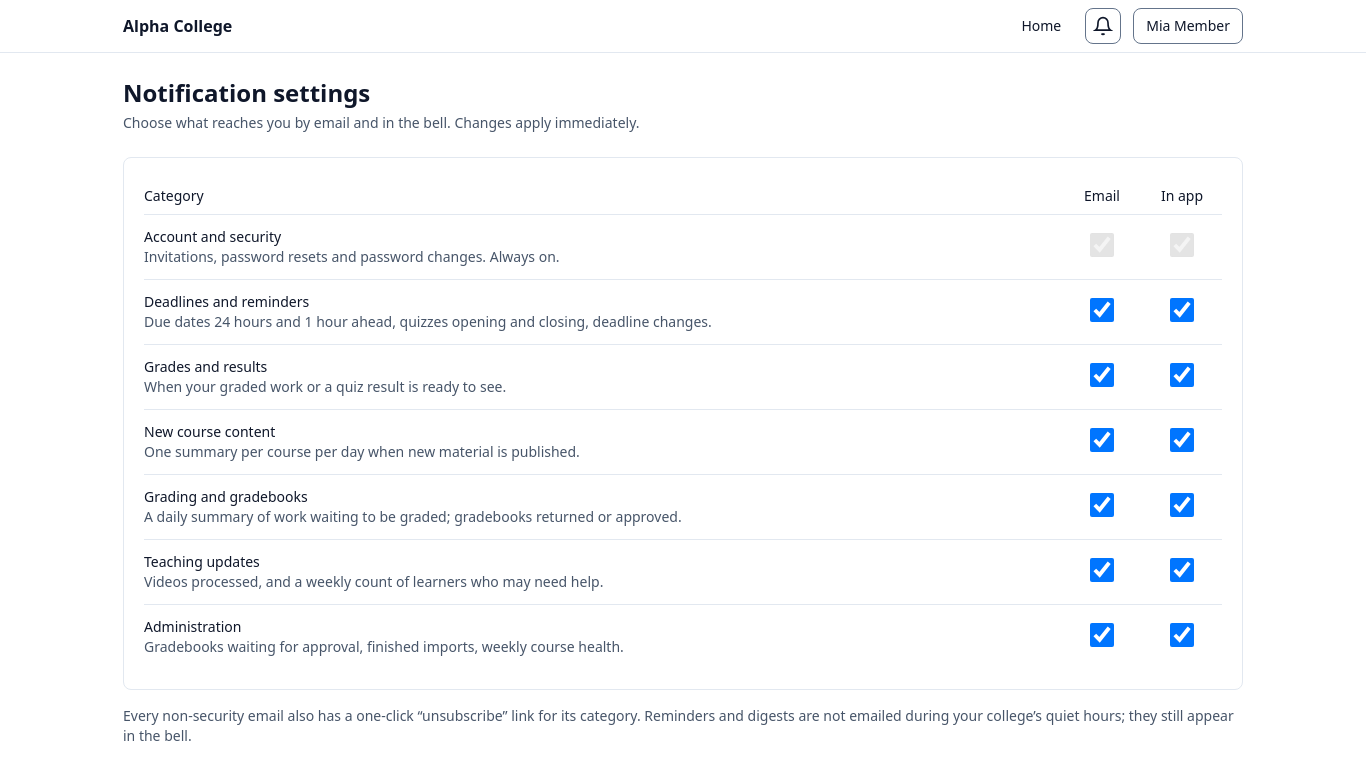
my notification settings › security is locked; turning a category off saves at once
The width and height of the screenshot is (1366, 768).
Expected: the checkbox named "Email: Account and security" is disabled, [1090, 232, 1114, 256]
Expected: the checkbox named "Email: Account and security" is checked, [1090, 232, 1114, 256]
Step 1. Click the checkbox named "Email: New course content" → (1102, 440), box [1090, 428, 1114, 452]
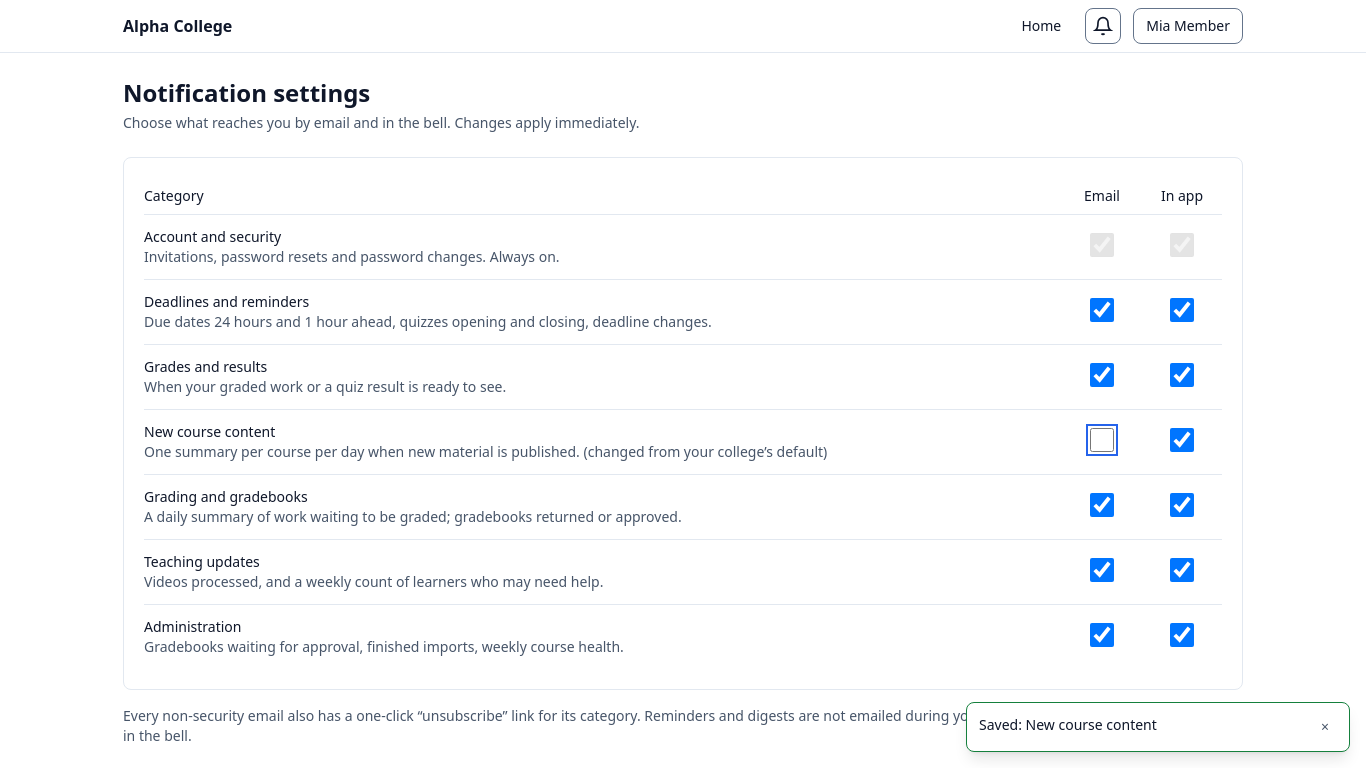
Expected: the checkbox named "Email: New course content" is not checked, [1090, 428, 1114, 452]
Expected: the text "Saved: New course content" is shown, [979, 715, 1157, 734]
Expected: the text "changed from your college’s default" is shown, [580, 442, 827, 461]
